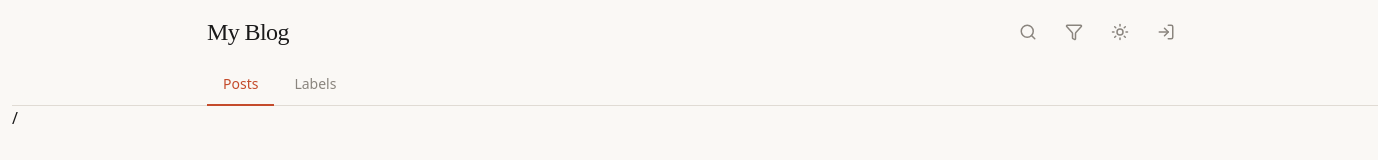
Test: Header › opens search on click
The image size is (1378, 160).
What coordinates should you click on to do the following:
click the button named "Search"
I would click on:
 (1028, 32)
Its box is 1011,15 -> 1045,49.
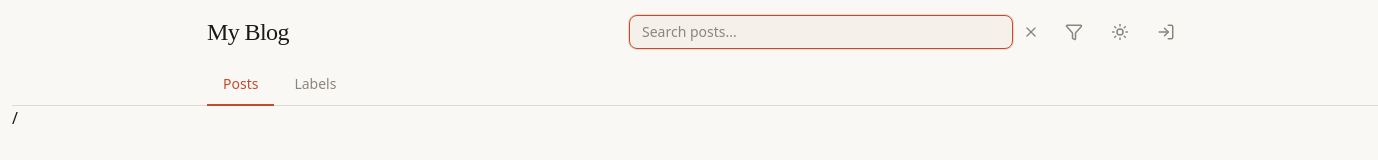
Expected: the dropdown with placeholder "Search posts..." is shown, 629,15 -> 1013,49
